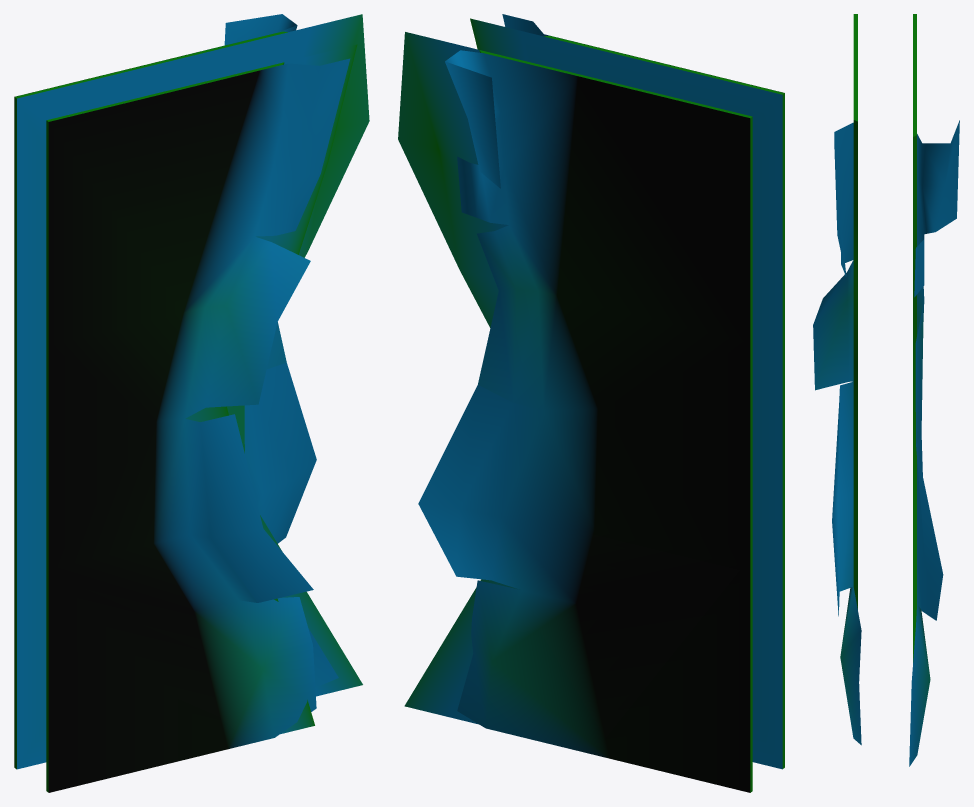
The model's file is DBK_Drywall_Side_D.fbx.
3 views of the same model, side by side, from view 1: azimuth 30°, elevation 25°; view 2: azimuth 150°, elevation 25°; view 3: azimuth 270°, elevation 25° (orthographic). The views are drawn at different scales.
Parts seen in each view (by area): view 1: DBK_Drywall_Side_D; view 2: DBK_Drywall_Side_D; view 3: DBK_Drywall_Side_D.
Part boxes in pixels (x1,y1,x2,y2): DBK_Drywall_Side_D: (14, 14, 369, 792); DBK_Drywall_Side_D: (398, 14, 784, 792); DBK_Drywall_Side_D: (813, 14, 959, 766).
Size of what is drawn, in the model's own units: 165 by 300 by 64.16.
